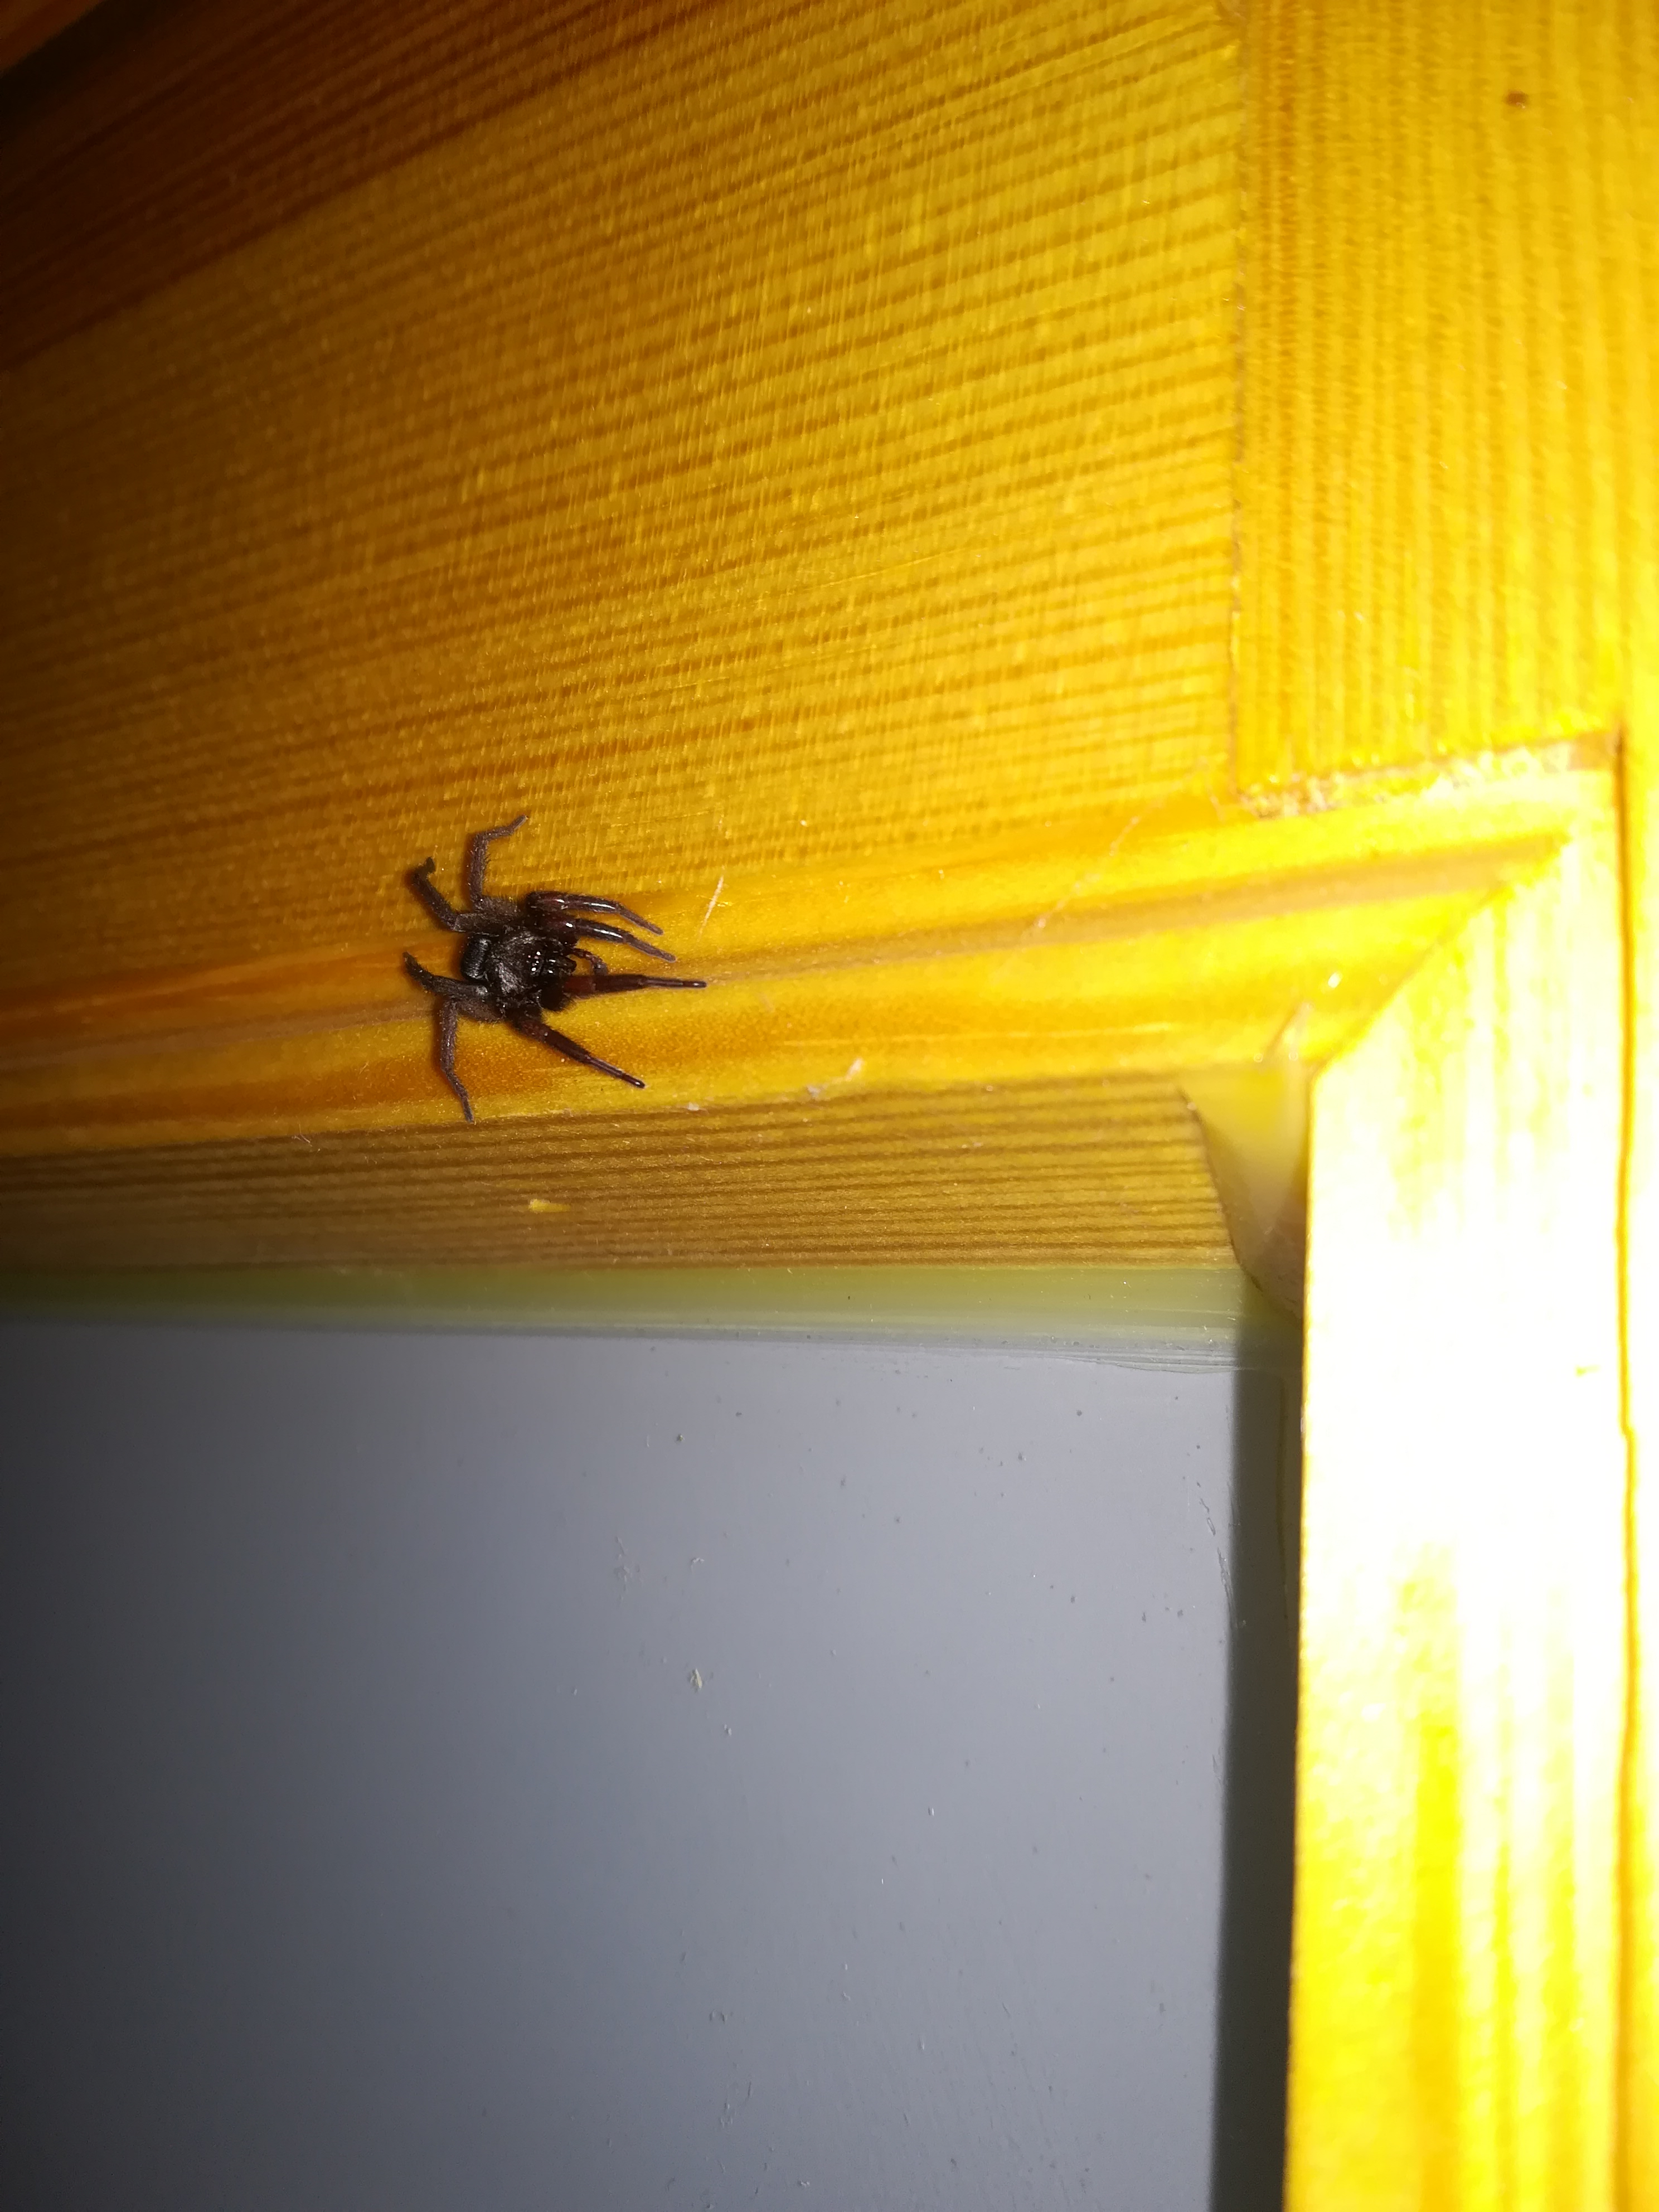spider: (336, 758, 720, 1155)
